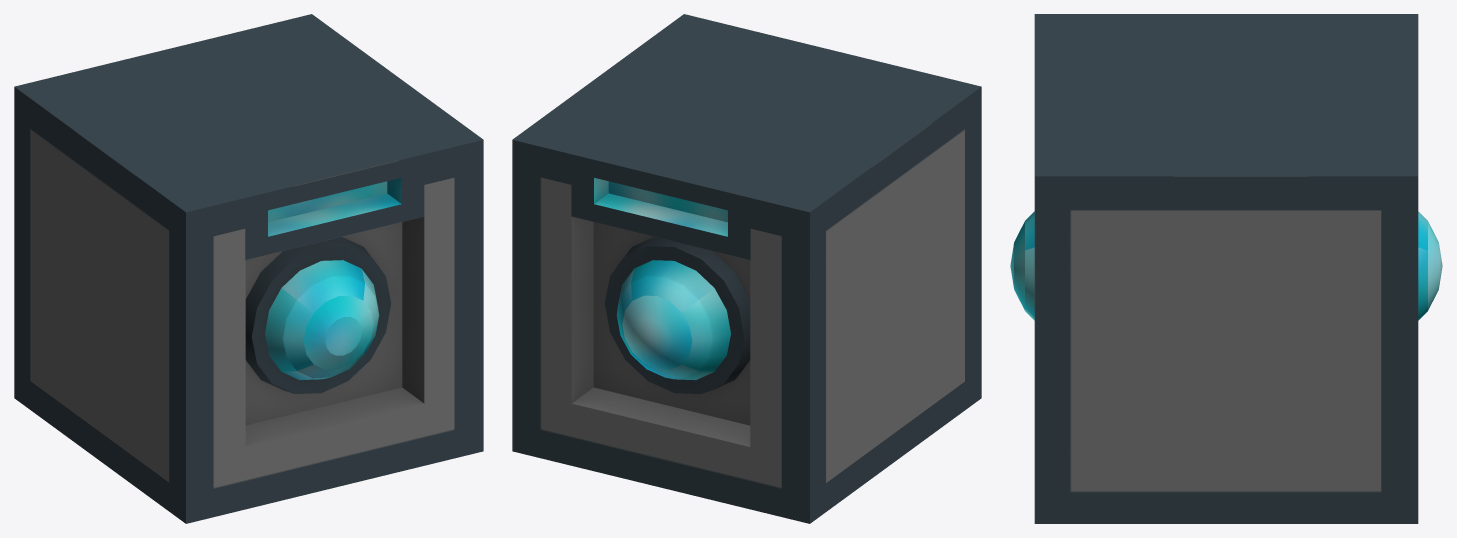
The model's file is FallBrock.fbx.
3 views of the same model, side by side, from view 1: azimuth 30°, elevation 25°; view 2: azimuth 150°, elevation 25°; view 3: azimuth 270°, elevation 25° (orthographic). The views are drawn at different scales.
Parts seen in each view (by area): view 1: FallBrock1; view 2: FallBrock1; view 3: FallBrock1.
Part boxes in pixels (x1=…): FallBrock1: x1=14, y1=14, x2=483, y2=523; FallBrock1: x1=512, y1=14, x2=981, y2=523; FallBrock1: x1=1010, y1=14, x2=1442, y2=523.
Size of the model in its own units: 100 by 100 by 113.
Materials: 1 (1 with a texture image).
